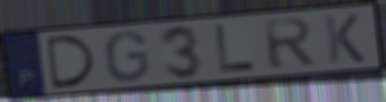3: (157, 23, 205, 81)
D: (43, 34, 99, 91)
G: (103, 29, 152, 83)
K: (321, 12, 367, 65)
L: (213, 23, 259, 74)
R: (260, 16, 319, 71)
